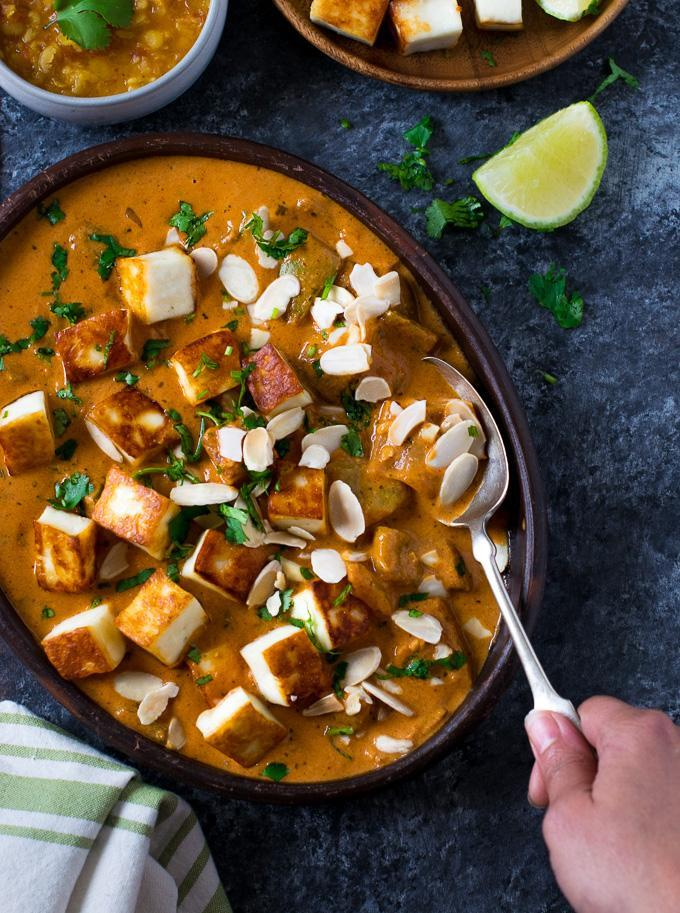paneer: (41, 281, 352, 668)
